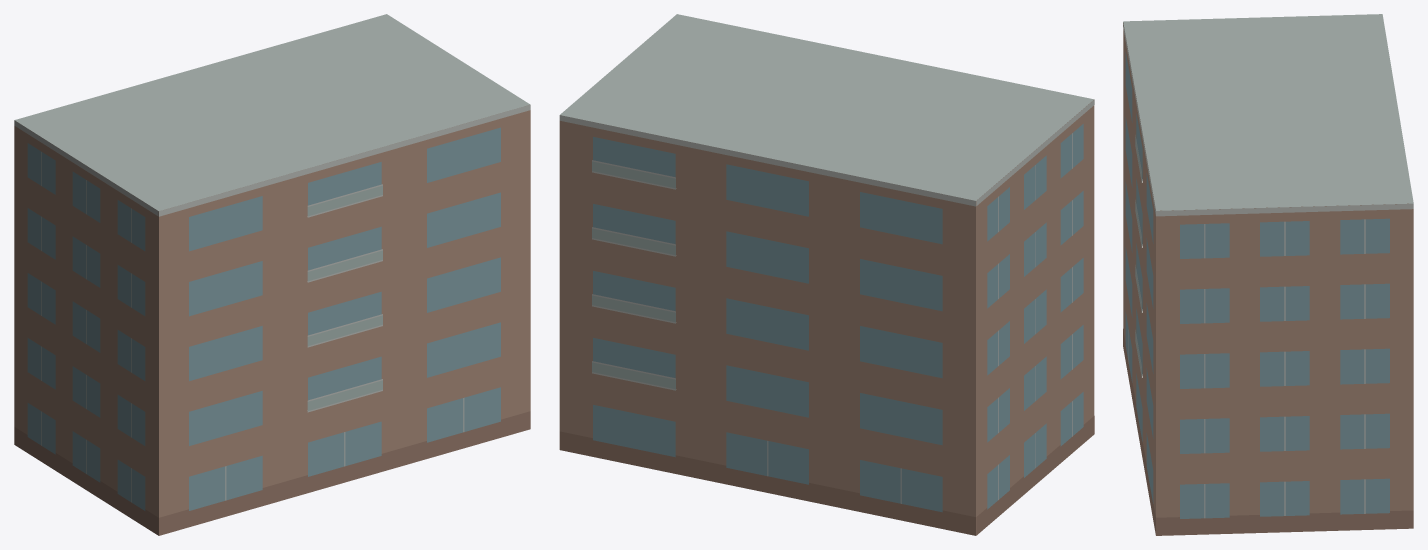
The model's file is survey-upis-32735348.glb.
3 renders of one model, left to right at view 1: azimuth 30°, elevation 25°; view 2: azimuth 150°, elevation 25°; view 3: azimuth 270°, elevation 25°, orthographic. The views are drawn at different scales.
Parts seen in each view (by area): view 1: survey-upis-32735348.tmp; view 2: survey-upis-32735348.tmp; view 3: survey-upis-32735348.tmp.
Part boxes in pixels (x1,y1,x2,y2): survey-upis-32735348.tmp: (14,14,530,535); survey-upis-32735348.tmp: (559,14,1094,535); survey-upis-32735348.tmp: (1123,14,1413,535).
Bounding box in the file's own units: 18.72 × 14.4 × 11.68.
